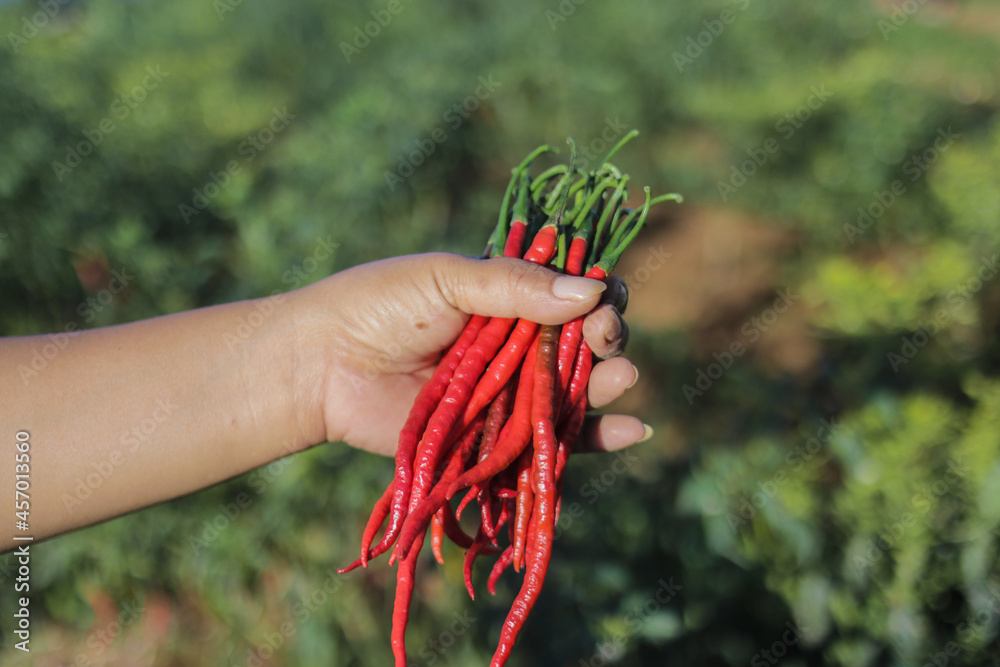Cabai: (372, 133, 671, 636)
